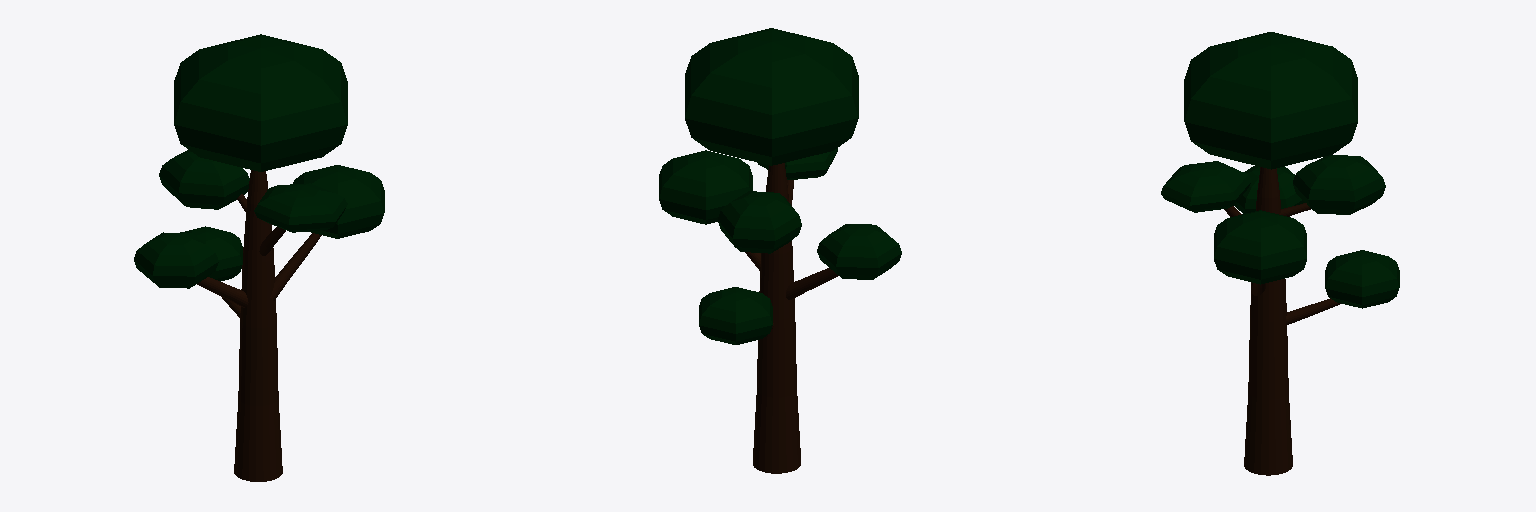
File: arbol.obj
The picture shows the model from 3 angles: view 1: azimuth 30°, elevation 25°; view 2: azimuth 150°, elevation 25°; view 3: azimuth 270°, elevation 25°; orthographic projection.
Parts seen in each view (by area): view 1: pSphere5, pCylinder1, pSphere8, pSphere7, pSphere1, pSphere6, pSphere4, pCylinder2, pCylinder3; view 2: pSphere5, pCylinder1, pSphere7, pSphere8, pSphere1, pSphere4, pSphere6, pCylinder3; view 3: pSphere5, pCylinder1, pSphere7, pSphere8, pSphere4, pSphere6, pSphere1, pCylinder4.
Boxes of the visible parts, x1=… form: pSphere5: x1=174, y1=34, x2=347, y2=171; pCylinder1: x1=234, y1=170, x2=282, y2=481; pSphere8: x1=159, y1=150, x2=249, y2=209; pSphere7: x1=293, y1=165, x2=384, y2=238; pSphere1: x1=134, y1=232, x2=218, y2=288; pSphere6: x1=254, y1=183, x2=347, y2=232; pSphere4: x1=180, y1=226, x2=242, y2=281; pCylinder2: x1=270, y1=233, x2=321, y2=300; pCylinder3: x1=197, y1=277, x2=248, y2=307; pSphere5: x1=685, y1=28, x2=858, y2=165; pCylinder1: x1=753, y1=163, x2=800, y2=473; pSphere7: x1=659, y1=150, x2=752, y2=224; pSphere8: x1=718, y1=191, x2=801, y2=253; pSphere1: x1=817, y1=224, x2=901, y2=279; pSphere4: x1=699, y1=287, x2=772, y2=344; pSphere6: x1=757, y1=148, x2=837, y2=179; pCylinder3: x1=786, y1=268, x2=838, y2=299; pSphere5: x1=1184, y1=32, x2=1357, y2=169; pCylinder1: x1=1244, y1=167, x2=1292, y2=475; pSphere7: x1=1214, y1=210, x2=1306, y2=284; pSphere8: x1=1293, y1=155, x2=1385, y2=214; pSphere4: x1=1325, y1=250, x2=1399, y2=308; pSphere6: x1=1161, y1=161, x2=1251, y2=212; pSphere1: x1=1234, y1=166, x2=1304, y2=213; pCylinder4: x1=1286, y1=298, x2=1340, y2=324.
Size of the model in its own units: 4.66 by 7.9 by 4.06.